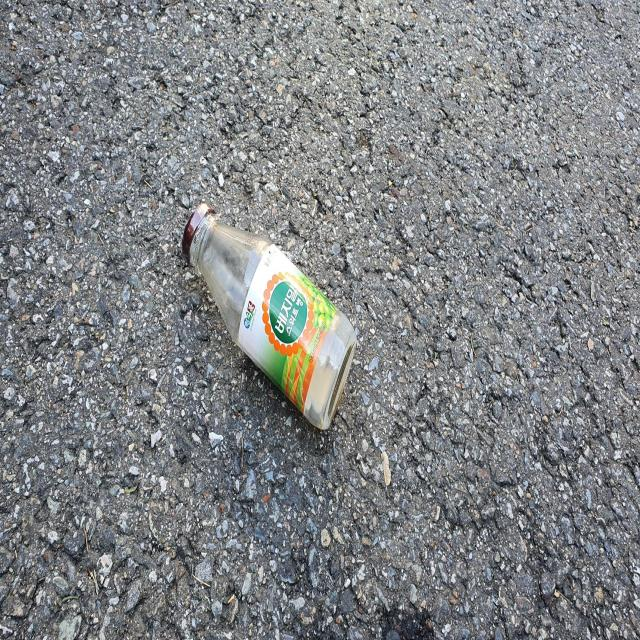glass: (182, 201, 357, 429)
